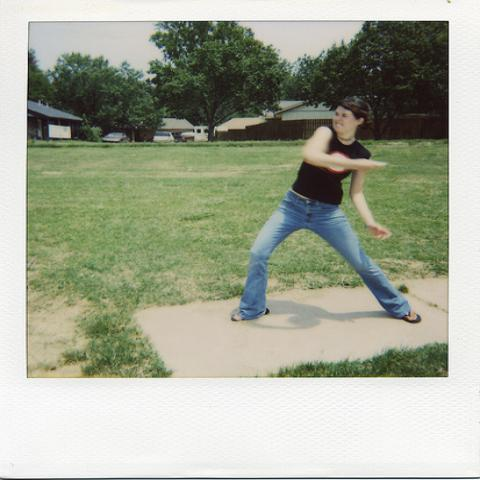car: (102, 132, 127, 142), (153, 132, 174, 143)
truck: (170, 125, 209, 142)
